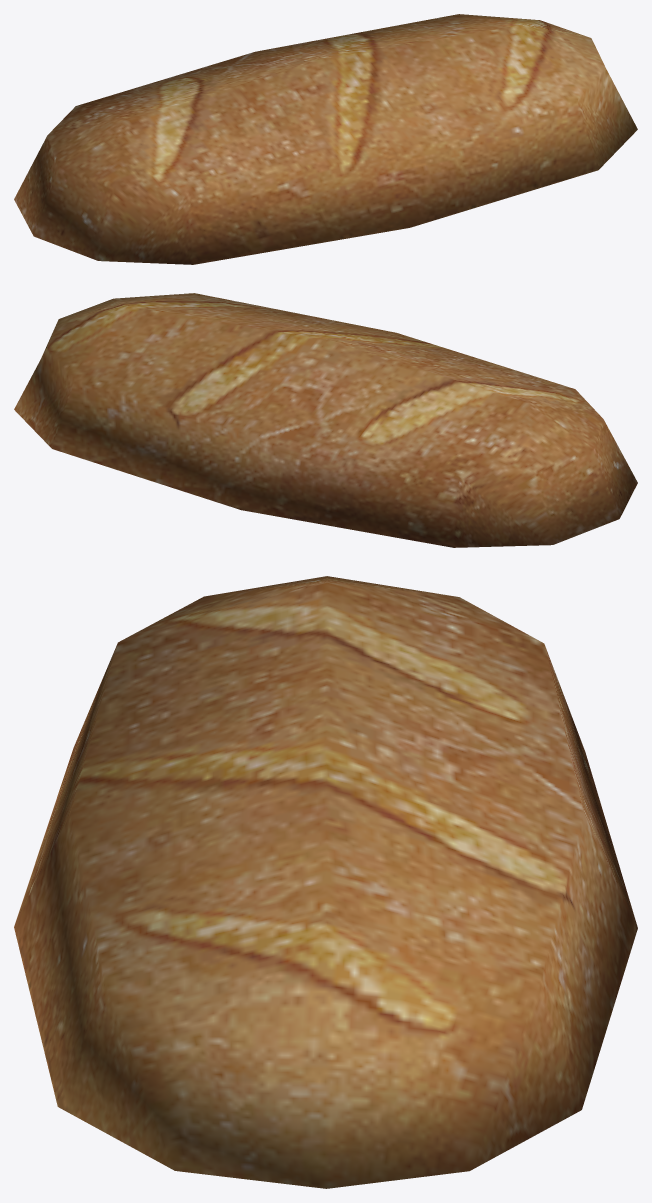
File: d_sg_shouyou_mianbao01_qt.FBX
3 renders of one model, top to bottom at view 1: azimuth 30°, elevation 25°; view 2: azimuth 150°, elevation 25°; view 3: azimuth 270°, elevation 25°, orthographic. The views are drawn at different scales.
Parts seen in each view (by area): view 1: d_emc_shouyou_guizi01_qt; view 2: d_emc_shouyou_guizi01_qt; view 3: d_emc_shouyou_guizi01_qt.
Part boxes in pixels (box(x1,y1,x2,y2)): d_emc_shouyou_guizi01_qt: box(14, 14, 637, 264); d_emc_shouyou_guizi01_qt: box(14, 293, 637, 547); d_emc_shouyou_guizi01_qt: box(14, 576, 637, 1188).
Bounding box in the file's own units: 0.4034 × 0.0707 × 0.2039.
